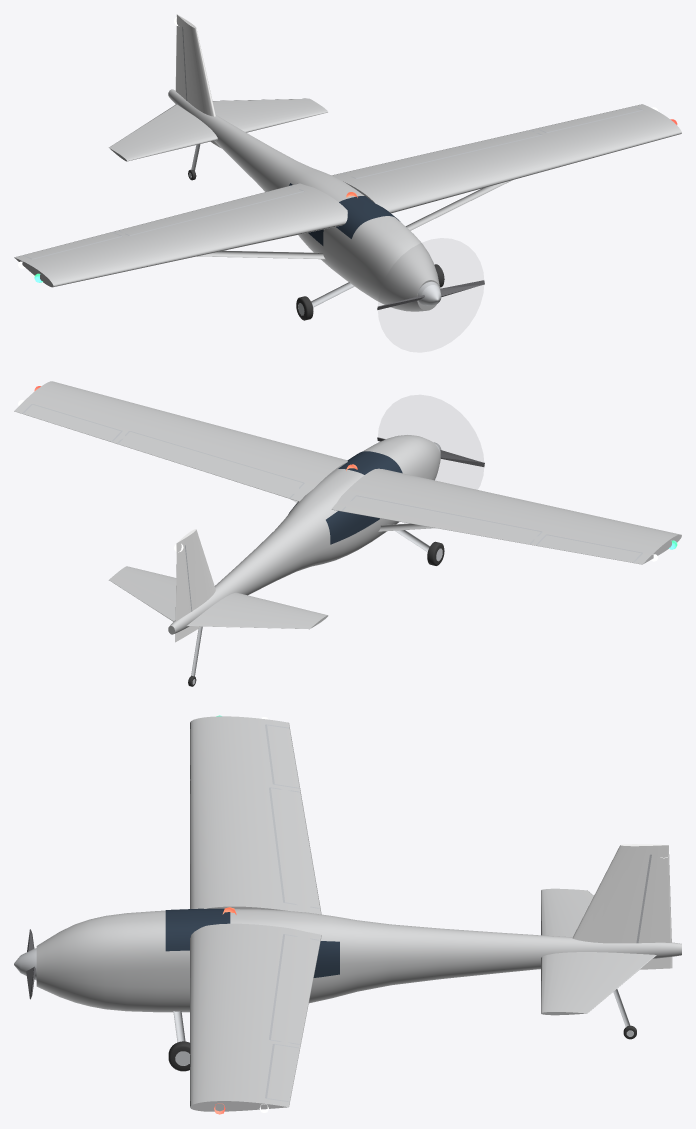
The picture shows the model from 3 angles, top to bottom: view 1: azimuth 30°, elevation 25°; view 2: azimuth 150°, elevation 25°; view 3: azimuth 270°, elevation 25°; orthographic projection. The views are drawn at different scales.
Visible parts, largest first — view 1: airframe, prop; view 2: airframe; view 3: airframe.
Part boxes in pixels (x1,y1,x2,y2): airframe: (14, 14, 681, 320); prop: (377, 280, 484, 309); airframe: (14, 381, 681, 686); airframe: (14, 715, 681, 1114).
Bounding box in the file's own units: 11.22 × 2.58 × 8.07.
